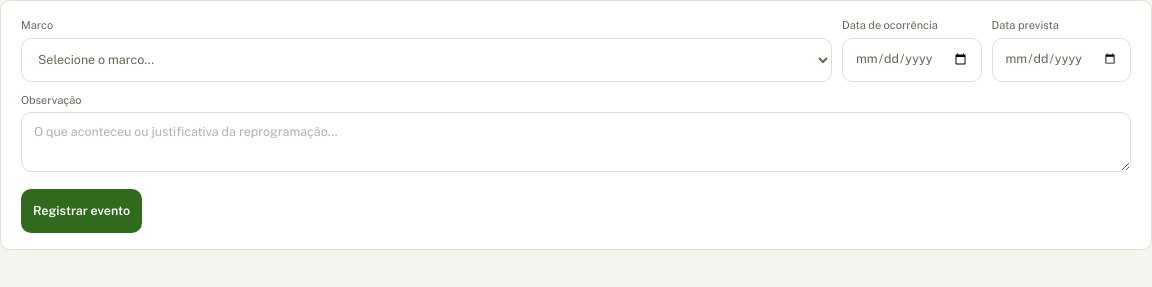
Test: MonitoramentoInternoFormEvento › exige fase geral pra marco de cronograma físico e bloqueia o submit sem ela
The image size is (1152, 287).
Select "Instalação — início" in the dropdown labelled "Marco" at (426, 60), box [21, 38, 832, 82]
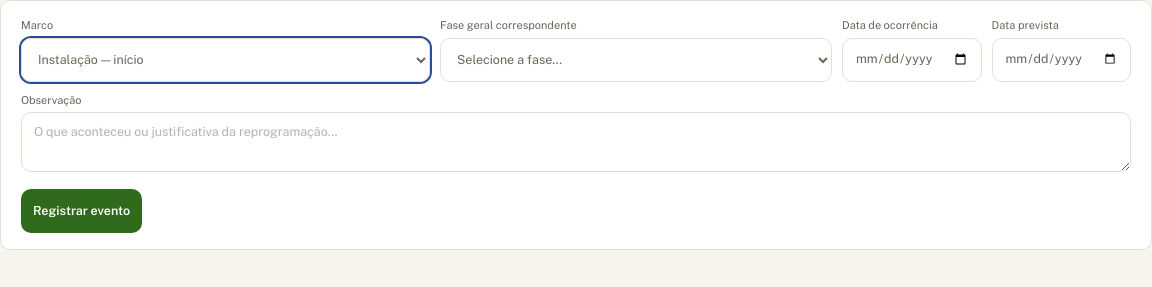
Now the dropdown labelled "Fase geral correspondente" is shown, box [440, 38, 832, 82]
Click the button "Registrar evento" at (82, 211), box [21, 189, 142, 233]
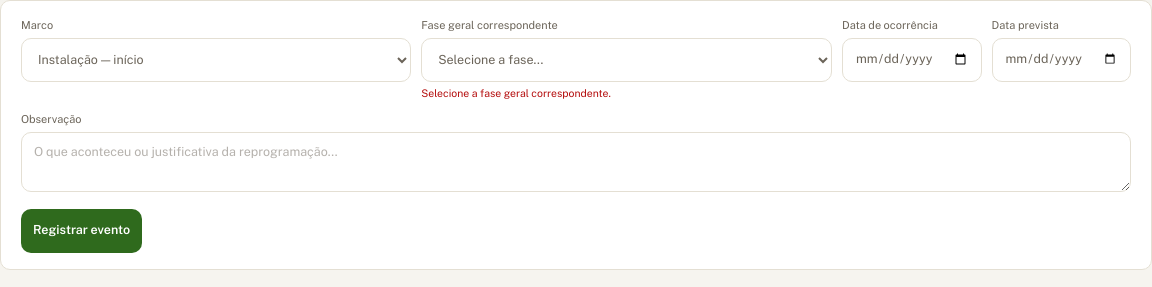
Now the text "Selecione a fase geral correspondente." is shown, box [421, 86, 611, 98]
